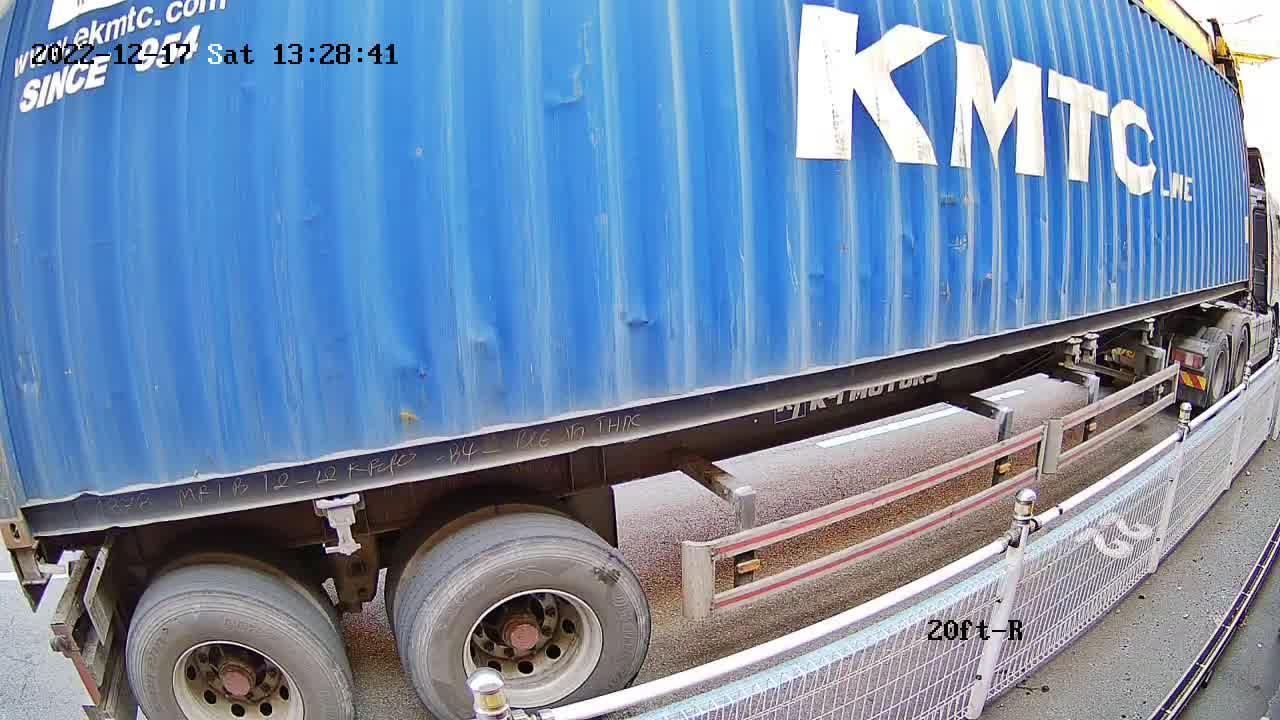Cone: (9, 539, 61, 582)
Hole_L: (0, 462, 86, 550)
Tire: (411, 536, 648, 715), (125, 595, 352, 715)
